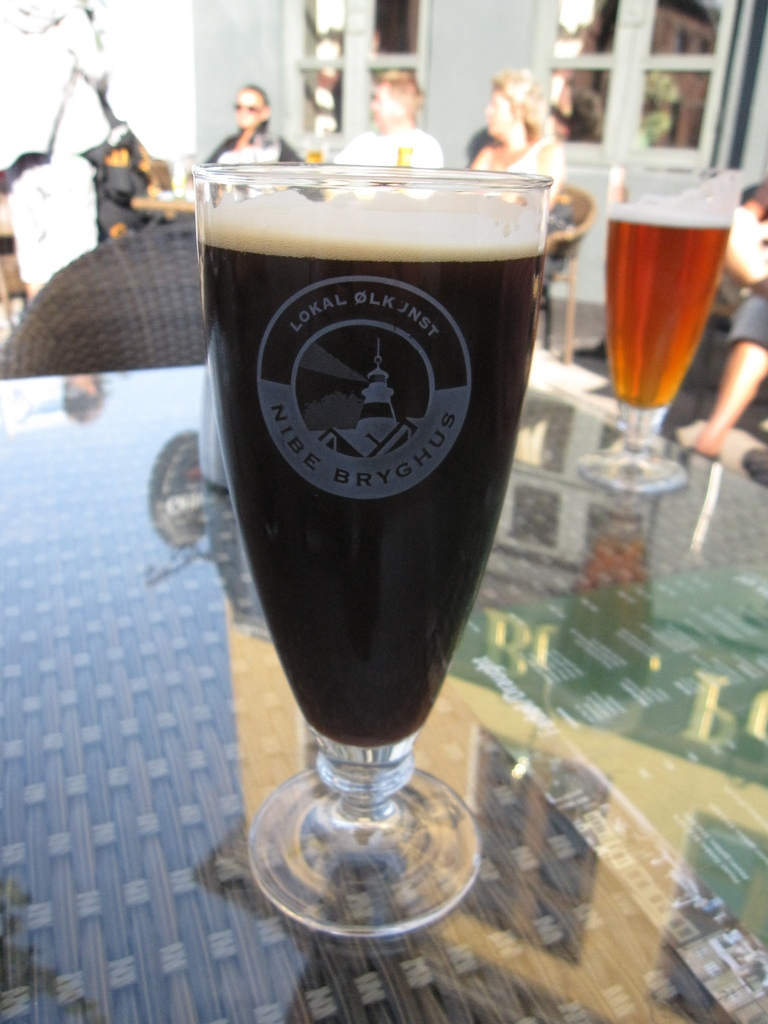Beer: (195, 195, 547, 748), (601, 186, 730, 410)
